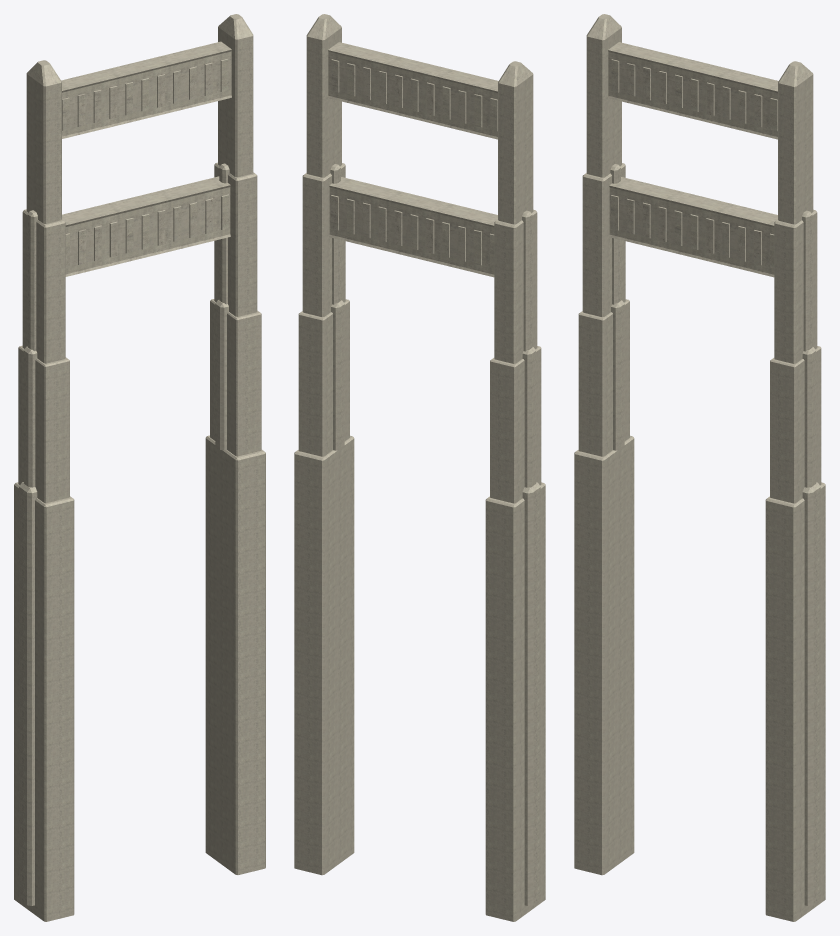
File: SuspBridgePillarSmall-2L.FBX
The picture shows the model from 3 angles, left to right: view 1: azimuth 30°, elevation 25°; view 2: azimuth 150°, elevation 25°; view 3: azimuth 330°, elevation 25°; orthographic projection.
Visible parts, largest first — view 1: SuspSmallPillar-2L; view 2: SuspSmallPillar-2L; view 3: SuspSmallPillar-2L.
Part boxes in pixels (left/top/right/bottom): SuspSmallPillar-2L: left=14, top=14, right=265, bottom=921; SuspSmallPillar-2L: left=294, top=14, right=545, bottom=921; SuspSmallPillar-2L: left=574, top=14, right=825, bottom=921.
Size of the model in its own units: 40.53 by 140 by 9.6.
